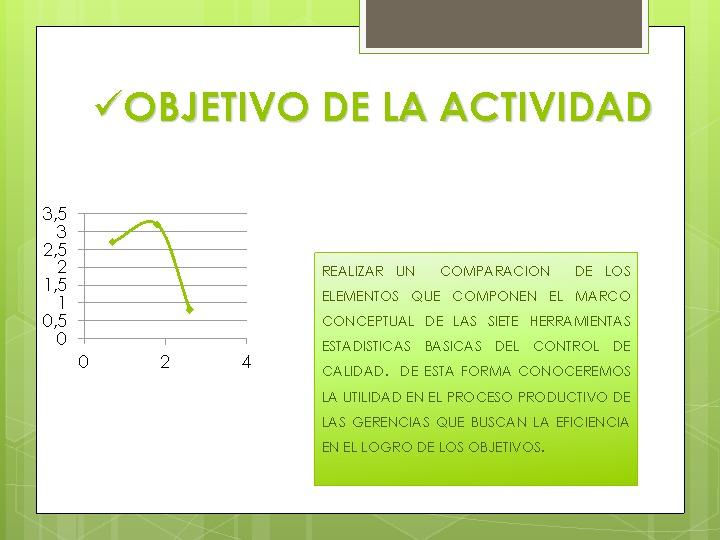paragraph: (289, 221, 668, 494)
title: (76, 71, 667, 142)
